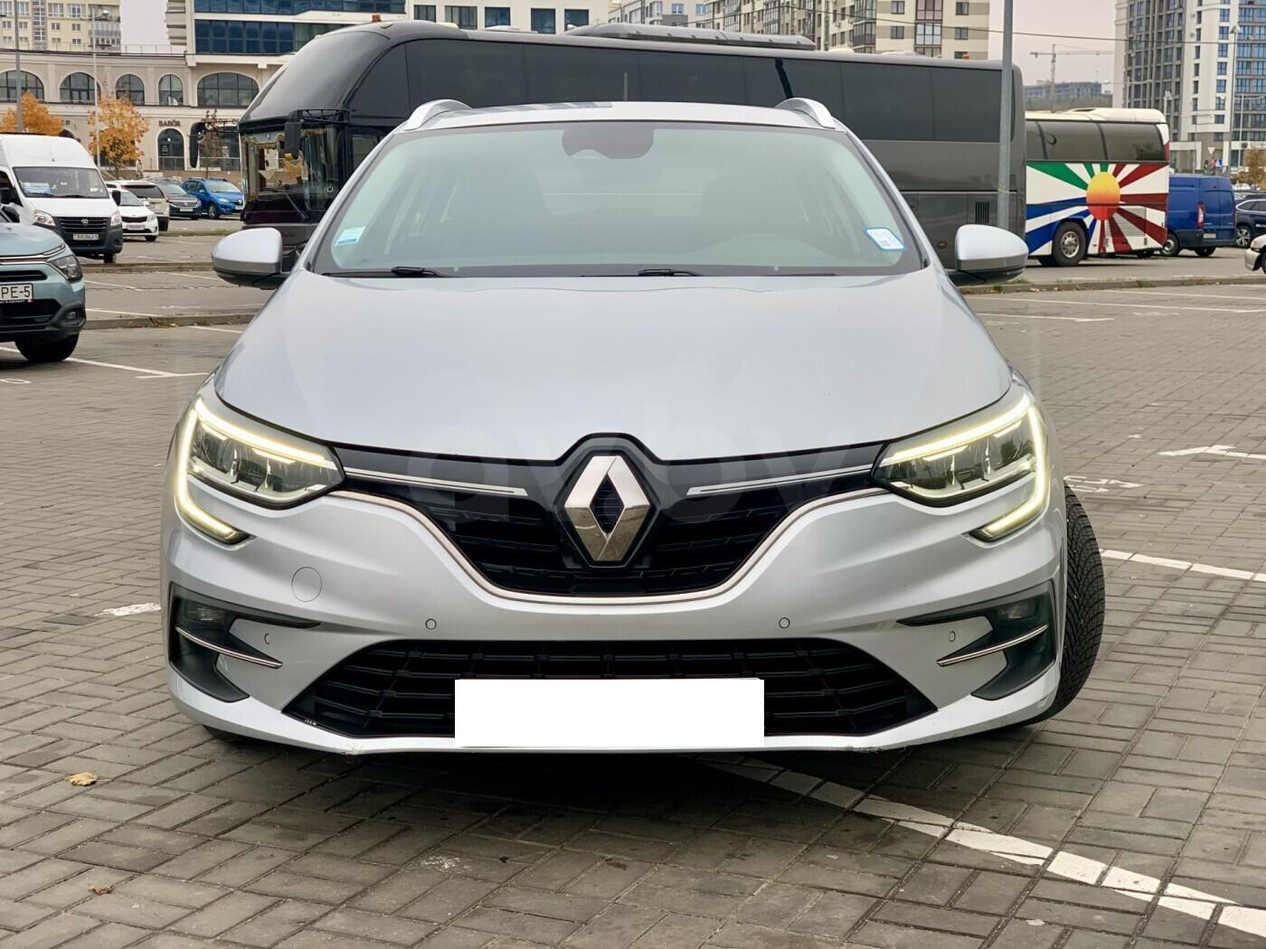Megane_2020: (156, 90, 1117, 786)
